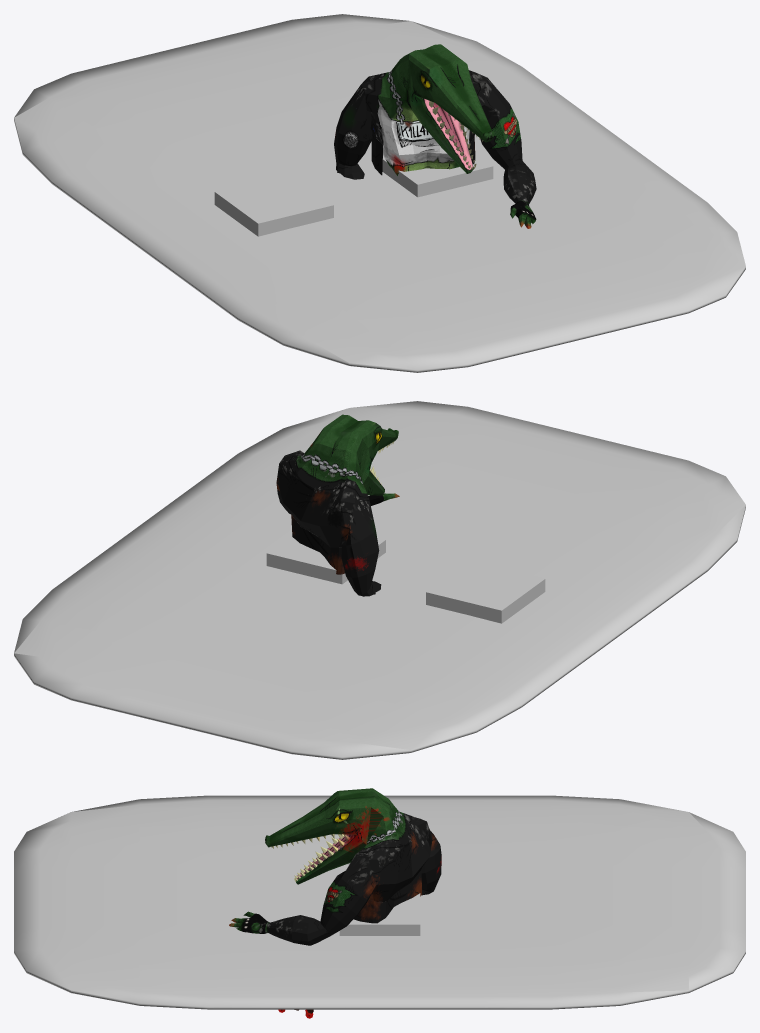
Rendered from cocodrilaBonesSelect_000036.obj.
3 views of the same model, one above another, from view 1: azimuth 30°, elevation 25°; view 2: azimuth 150°, elevation 25°; view 3: azimuth 270°, elevation 25° (orthographic). The views are drawn at different scales.
Parts seen in each view (by area): view 1: Mball, Crocodile.002_Cylinder.002, Cube, Cube.001; view 2: Mball, Crocodile.002_Cylinder.002, Cube, Cube.001; view 3: Mball, Crocodile.002_Cylinder.002, Cube.001.
Part boxes in pixels (bbox=[...]): Mball: bbox=[14, 14, 745, 372]; Crocodile.002_Cylinder.002: bbox=[334, 44, 536, 228]; Cube: bbox=[214, 173, 333, 236]; Cube.001: bbox=[382, 153, 493, 197]; Mball: bbox=[14, 401, 745, 759]; Crocodile.002_Cylinder.002: bbox=[276, 414, 399, 596]; Cube: bbox=[426, 560, 545, 623]; Cube.001: bbox=[266, 535, 385, 584]; Mball: bbox=[14, 795, 745, 1009]; Crocodile.002_Cylinder.002: bbox=[229, 788, 441, 1018]; Cube.001: bbox=[339, 893, 420, 935].
Bounding box in the file's own units: 12.42 × 5.93 × 18.18.
